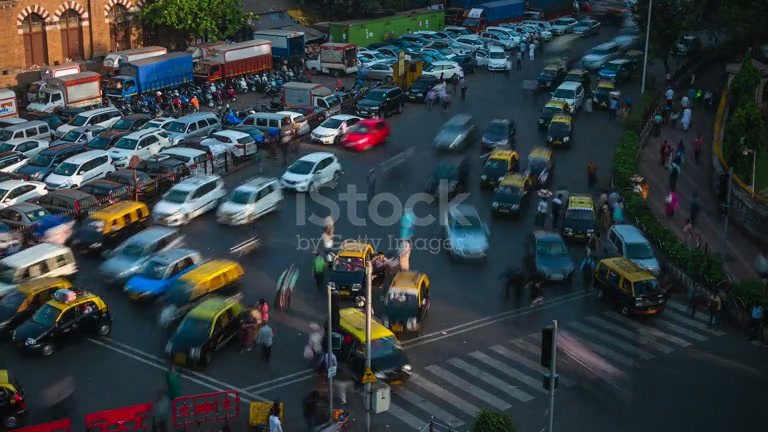bus: (102, 48, 194, 108), (191, 40, 273, 87)
car: (162, 287, 246, 377), (9, 286, 113, 357), (122, 249, 246, 308), (334, 307, 413, 387), (96, 224, 188, 287), (122, 246, 204, 307), (67, 197, 151, 253), (593, 256, 667, 316), (152, 172, 227, 227), (215, 174, 285, 227), (443, 193, 491, 265), (603, 223, 663, 280), (42, 149, 116, 192), (523, 230, 576, 284), (280, 151, 343, 194), (382, 270, 431, 325), (432, 112, 481, 155), (490, 171, 533, 218), (335, 117, 391, 152), (560, 194, 597, 244), (310, 113, 363, 146), (479, 148, 520, 190), (208, 127, 259, 160), (0, 370, 28, 429), (479, 117, 517, 159), (546, 114, 574, 149)
pedestrian: (256, 319, 273, 364), (707, 293, 722, 327)
